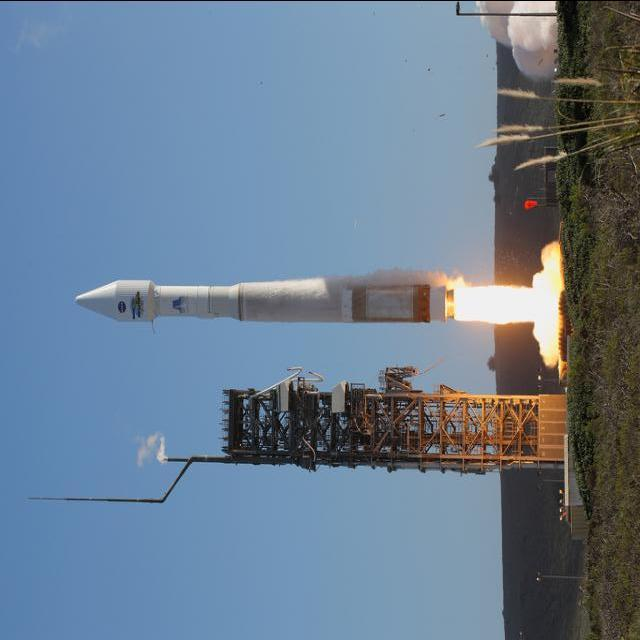Missile: (71, 279, 460, 323)
